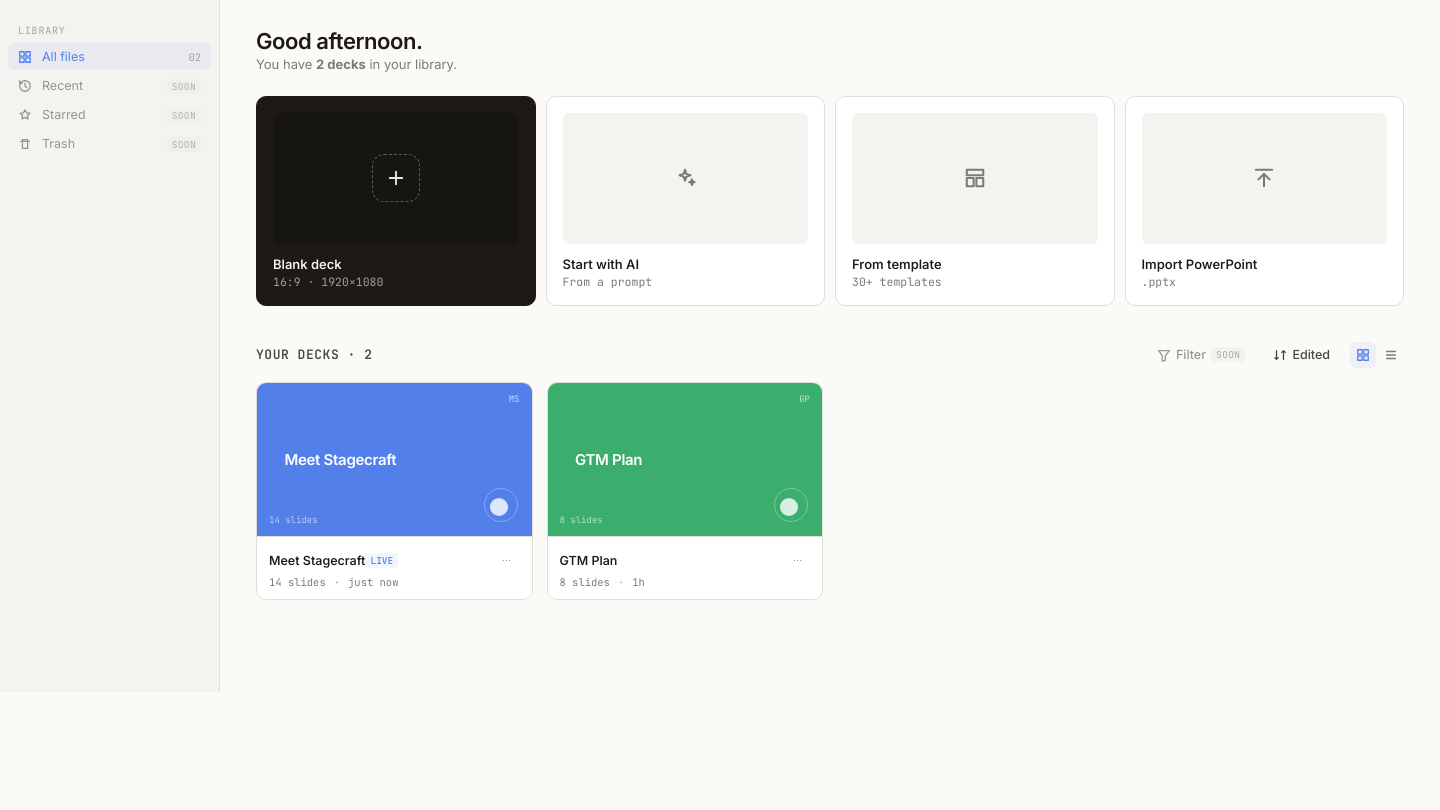
Test: HomeView list view — rename and delete › clicking Rename shows an inline input pre-filled with the deck name
The image size is (1440, 810).
Click the button titled "List view" at (1391, 355), box [1378,342,1404,368]
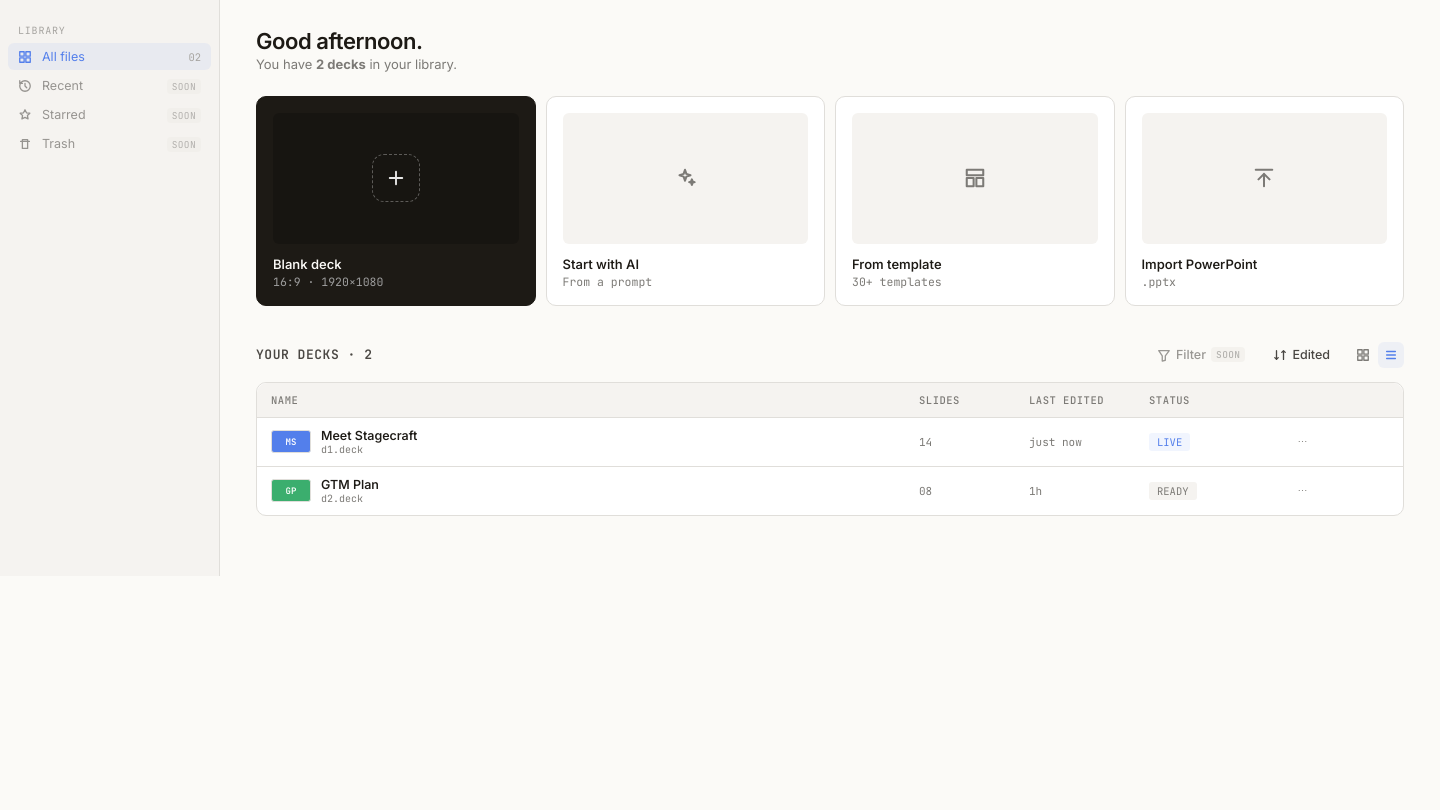
Click the button titled "Actions: GTM Plan" at (1302, 491), box [1289,478,1315,504]
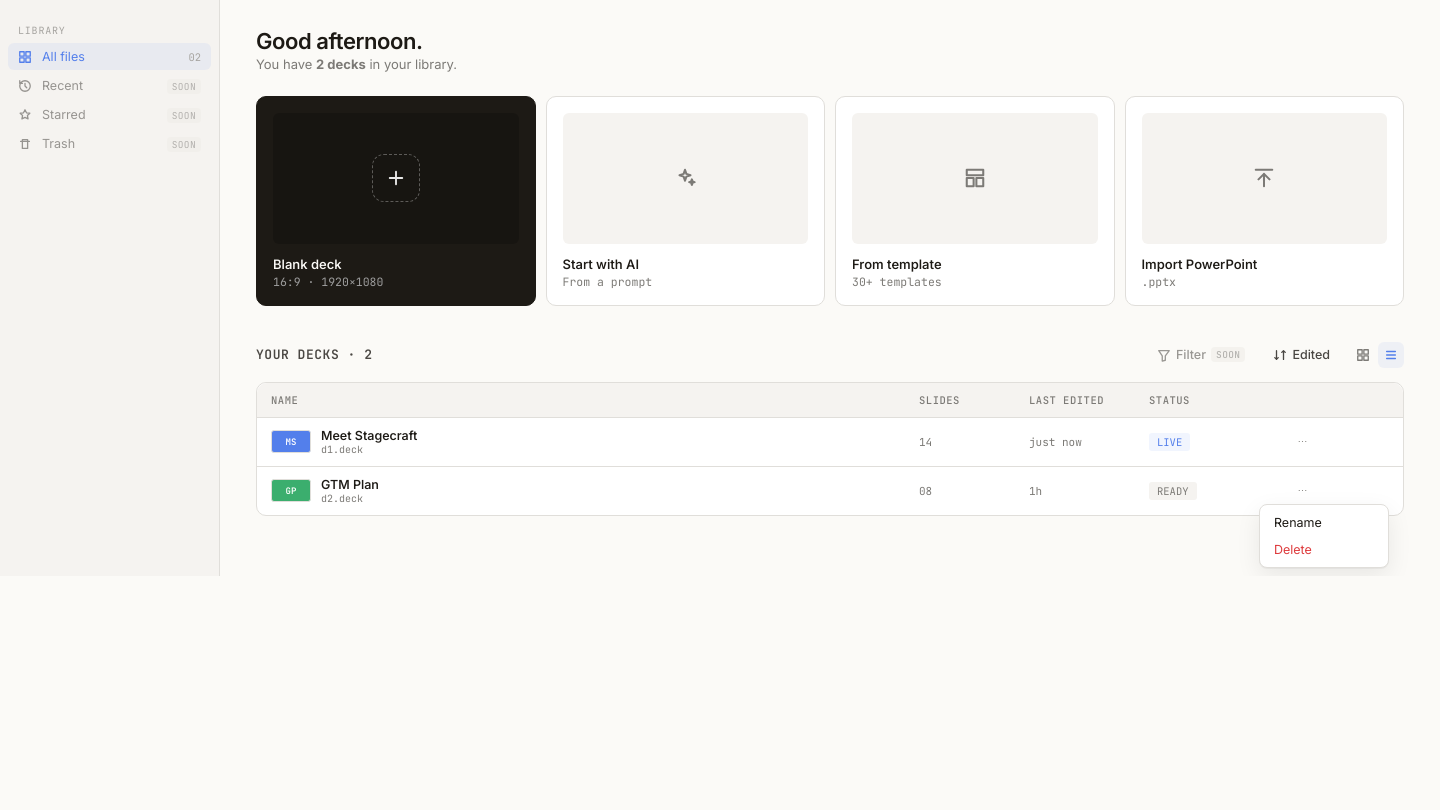
Click the button "Rename" at (1324, 522), box [1264,509,1384,536]
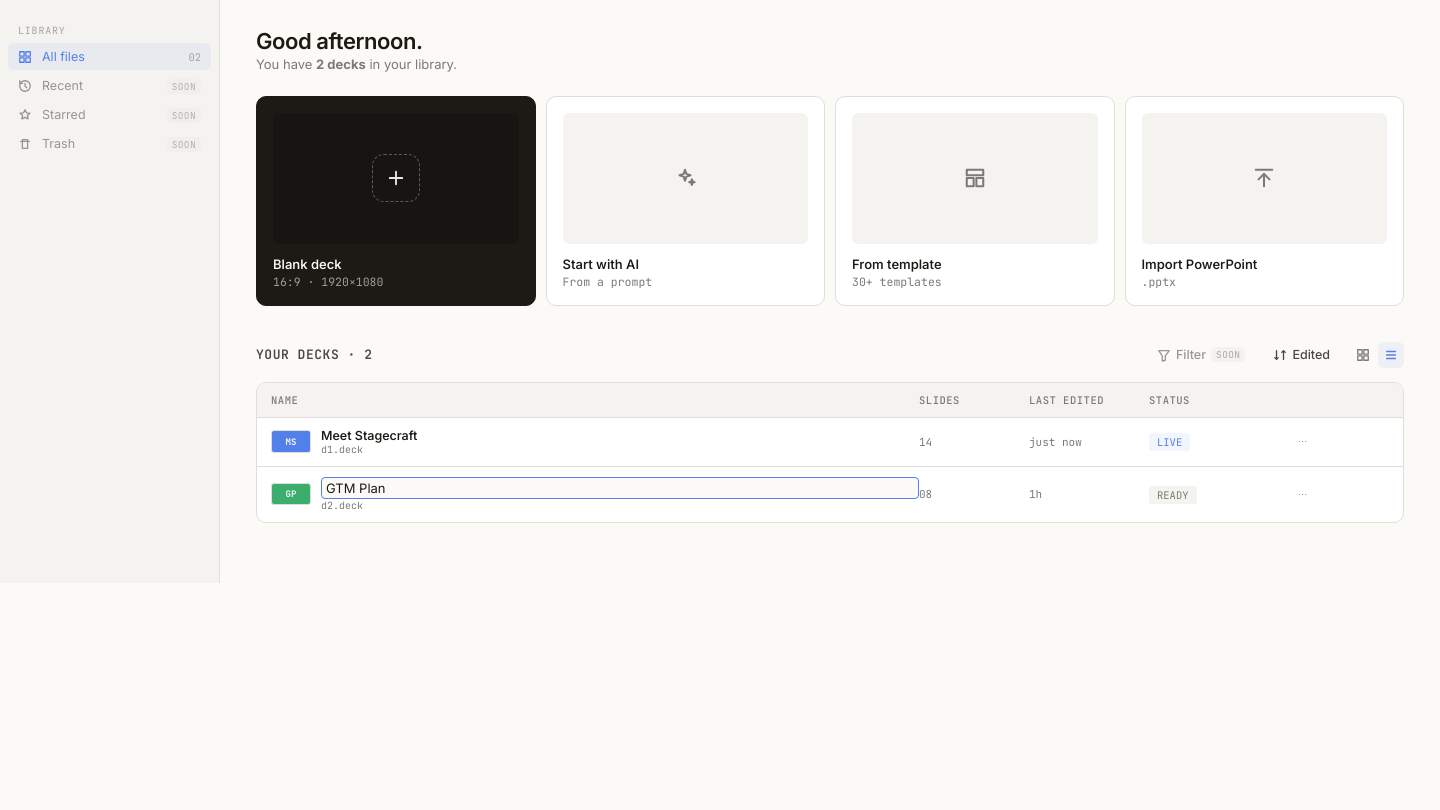
Now the field showing "GTM Plan" is shown, box [321,477,919,499]
